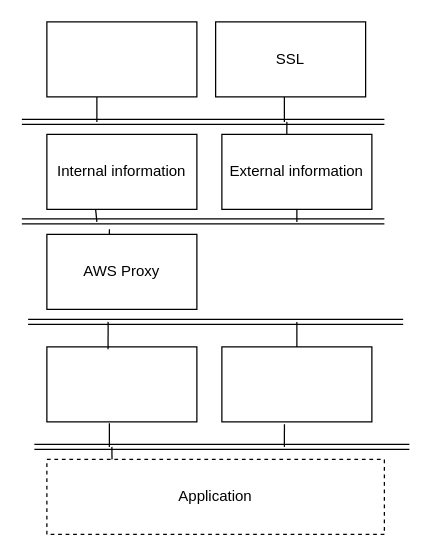
Some shapes in this 431 by 556 pixel diagram are drawn without their labels. Here are the shapes that lost their labels. From the top down, the box of each, then its label:
(46, 21, 197, 97): Https Sender
(46, 346, 197, 422): Firewall AWS
(221, 346, 372, 422): Firewall Application
